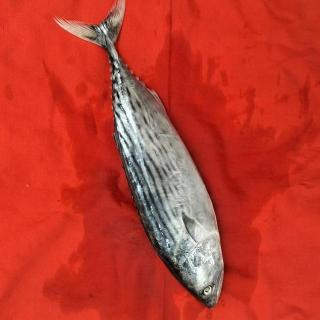Ikan: (62, 14, 232, 307)
